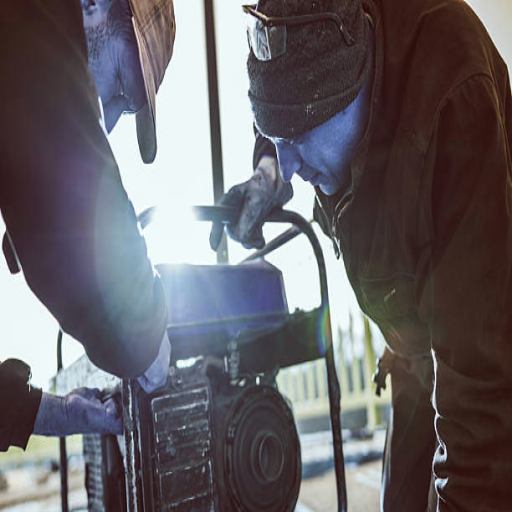portable_generator: (56, 207, 349, 512)
